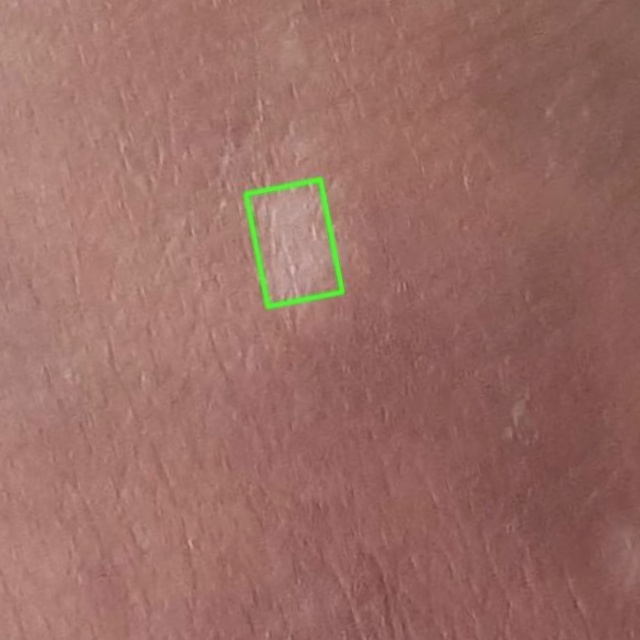Eczema: (245, 179, 342, 306)
